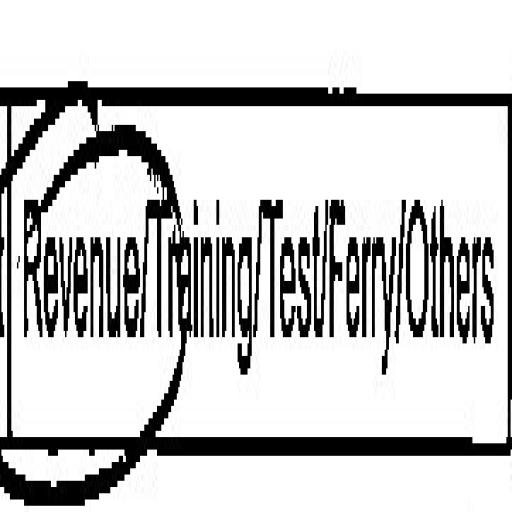check: (6, 0, 149, 512)
